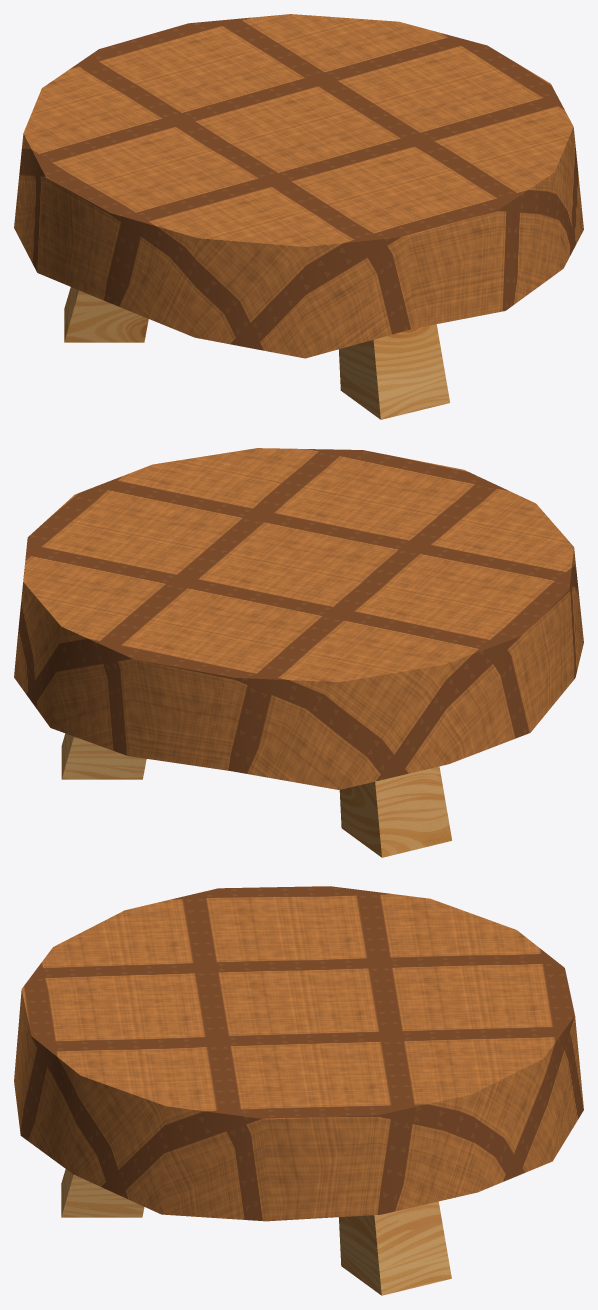
The model's file is Livingroom_Table_3.fbx.
3 renders of one model, top to bottom at view 1: azimuth 30°, elevation 25°; view 2: azimuth 150°, elevation 25°; view 3: azimuth 270°, elevation 25°, orthographic.
Parts seen in each view (by area): view 1: Livingroom_Table_3; view 2: Livingroom_Table_3; view 3: Livingroom_Table_3.
Part boxes in pixels (x1=…): Livingroom_Table_3: x1=14, y1=14, x2=583, y2=419; Livingroom_Table_3: x1=14, y1=448, x2=583, y2=857; Livingroom_Table_3: x1=14, y1=886, x2=583, y2=1295.
Size of the model in its own units: 143 by 54.8 by 142.
